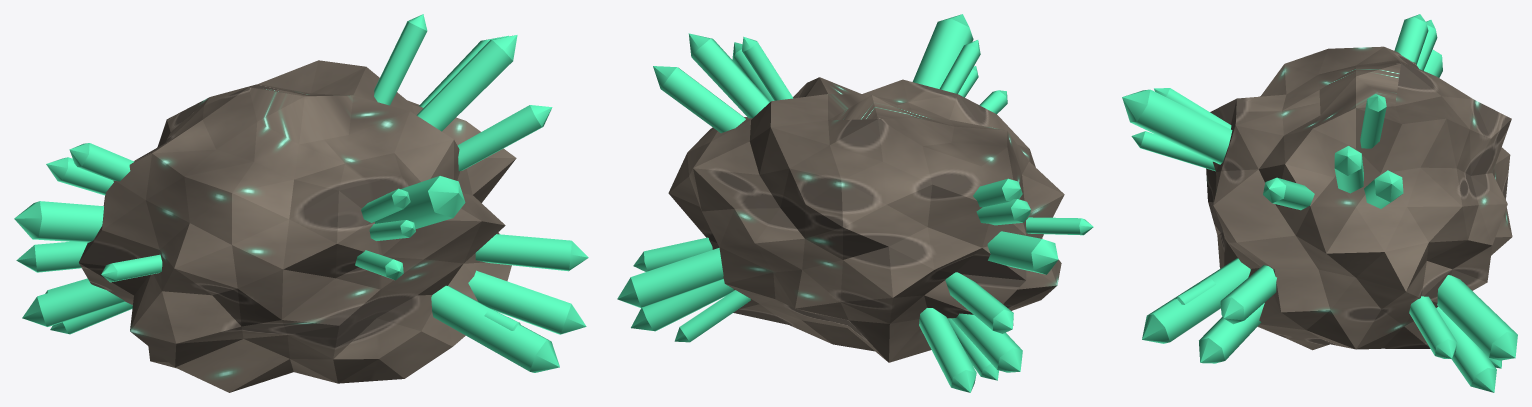
The model's file is cosmium_asteroid.obj.
3 renders of one model, left to right at view 1: azimuth 30°, elevation 25°; view 2: azimuth 150°, elevation 25°; view 3: azimuth 270°, elevation 25°, orthographic. The views are drawn at different scales.
Visible parts, largest first — view 1: rock, crystal; view 2: rock, crystal; view 3: rock, crystal.
Boxes of the visible parts, box(x1,y1,x2,y2) form: rock: box(79, 60, 516, 392); crystal: box(14, 14, 588, 372); rock: box(668, 77, 1064, 362); crystal: box(617, 14, 1093, 392); rock: box(1206, 46, 1512, 350); crystal: box(1122, 14, 1517, 392).
Bounding box in the file's own units: 128 × 82.82 × 101.
2 materials, 1 textured.
